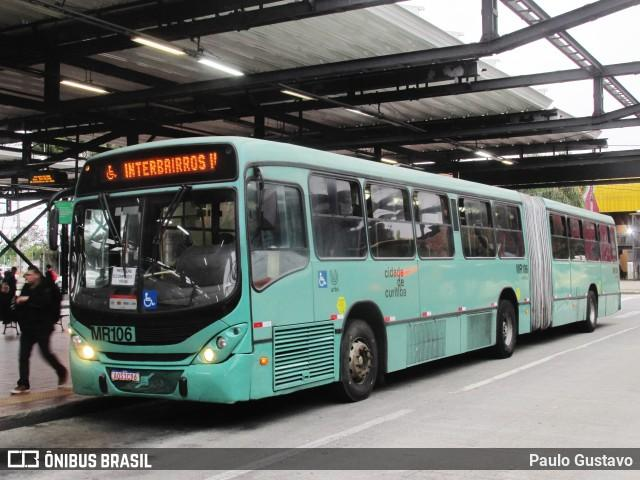INTERBAIRROS II: (120, 146, 223, 184)
